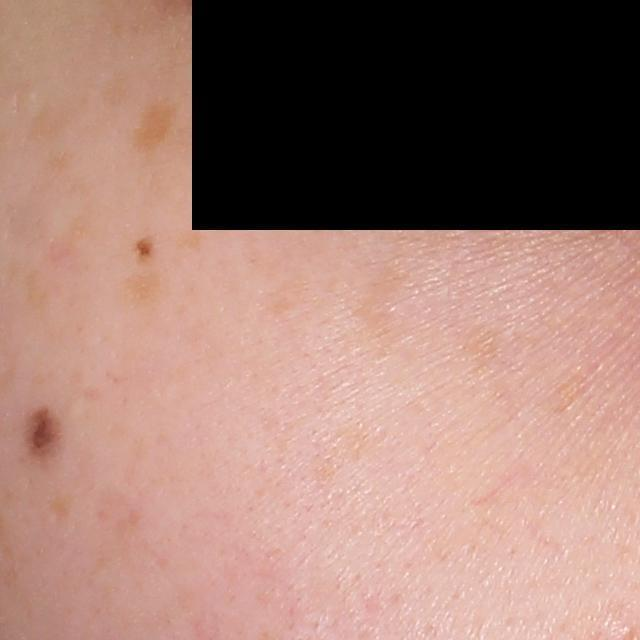melasma: (350, 261, 420, 354), (457, 317, 514, 380), (24, 97, 87, 152), (134, 102, 174, 151), (121, 270, 169, 307), (175, 226, 211, 258)
nevus: (136, 236, 151, 257)
